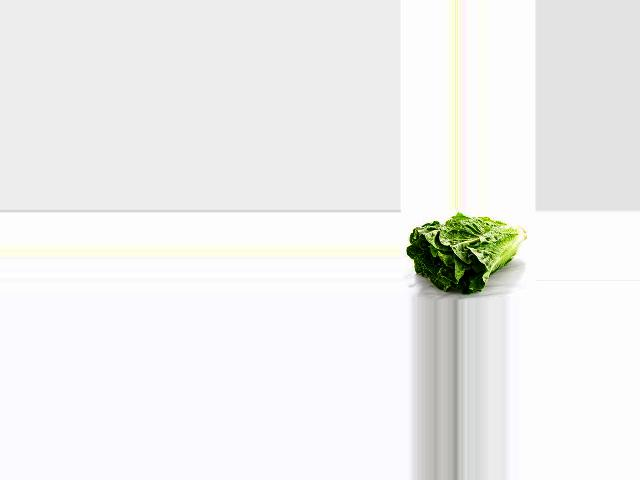lettuce: (408, 211, 524, 295)
